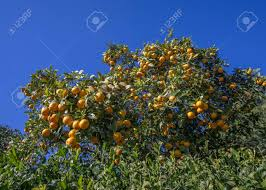orange: (78, 119, 90, 129), (187, 111, 195, 120)
